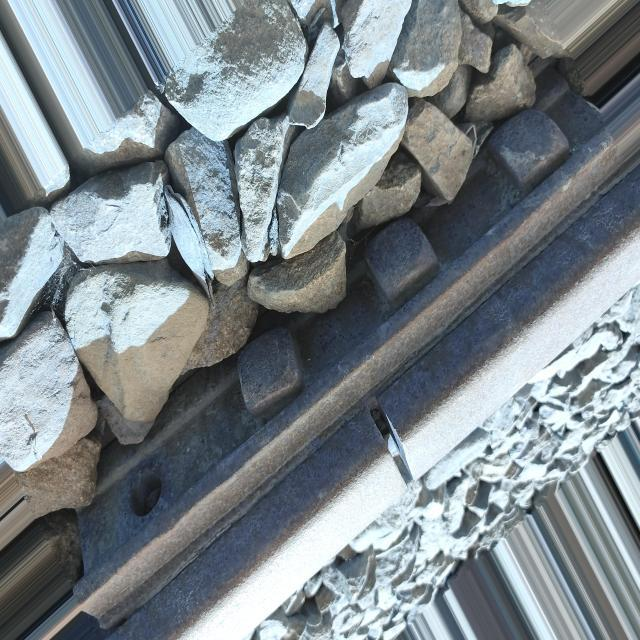Defective Joint: (75, 73, 628, 619)
